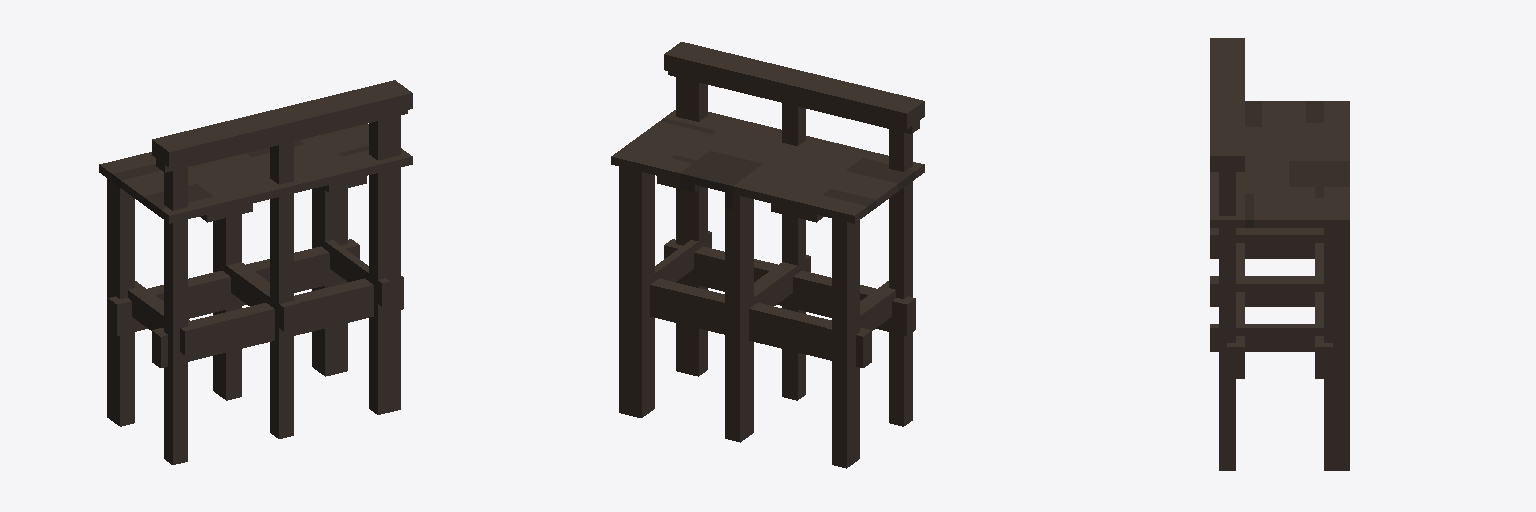
3 renders of one model, left to right at view 1: azimuth 30°, elevation 25°; view 2: azimuth 150°, elevation 25°; view 3: azimuth 270°, elevation 25°, orthographic.
Parts seen in each view (by area): view 1: object 1; view 2: object 1; view 3: object 1.
Part boxes in pixels (bbox=[...]): object 1: bbox=[99, 80, 412, 464]; object 1: bbox=[611, 42, 924, 468]; object 1: bbox=[1210, 38, 1349, 470].
Size of the model in its own units: 3.2 by 4 by 1.6.
Materials: 1 (1 with a texture image).